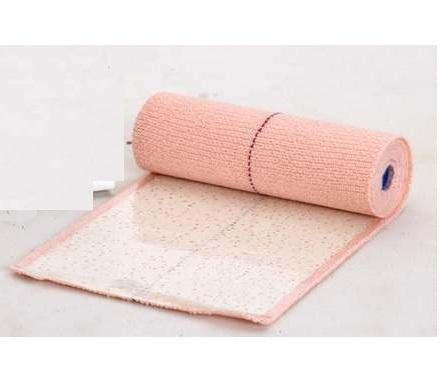bandage: (13, 91, 414, 328)
